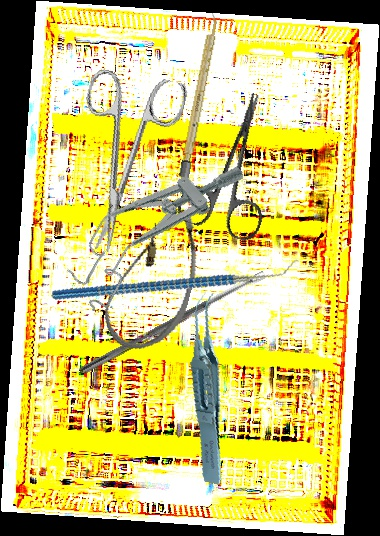Cannula: (97, 198, 211, 360)
Chopper: (50, 203, 300, 355)
Iris Scissors: (51, 61, 190, 262), (174, 82, 299, 244)
Scalpel Handle: (178, 13, 221, 179)
Speculum: (51, 131, 255, 317)
Surgical Spoon: (78, 270, 267, 377)
Tissue Forceps: (163, 290, 258, 485)
